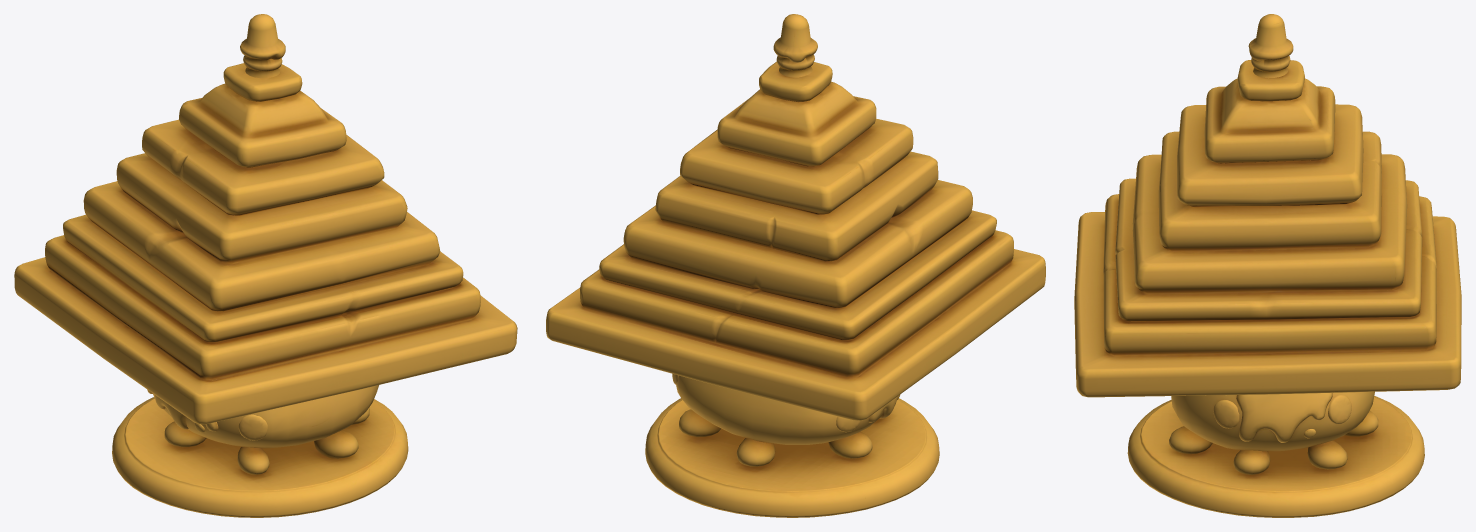
Rendered from laos-envi-3.glb.
3 views of the same model, side by side, from view 1: azimuth 30°, elevation 25°; view 2: azimuth 150°, elevation 25°; view 3: azimuth 270°, elevation 25° (orthographic).
Parts seen in each view (by area): view 1: tripo_6e95f792_41a7_4504_9389_f9f43d2e0170; view 2: tripo_6e95f792_41a7_4504_9389_f9f43d2e0170; view 3: tripo_6e95f792_41a7_4504_9389_f9f43d2e0170.
Part boxes in pixels (left/top/right/bottom): tripo_6e95f792_41a7_4504_9389_f9f43d2e0170: left=14, top=14, right=517, bottom=517; tripo_6e95f792_41a7_4504_9389_f9f43d2e0170: left=546, top=14, right=1045, bottom=517; tripo_6e95f792_41a7_4504_9389_f9f43d2e0170: left=1074, top=14, right=1461, bottom=517.
Size of the model in its own units: 0.769 by 0.9995 by 0.7925.
1 material, 1 textured.
